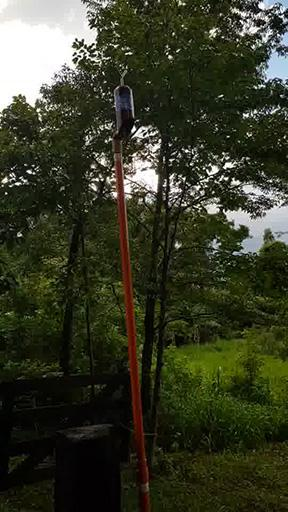Detector_Tensao_Contato: (112, 67, 135, 140)
Vara_Manobra: (110, 140, 149, 510)
